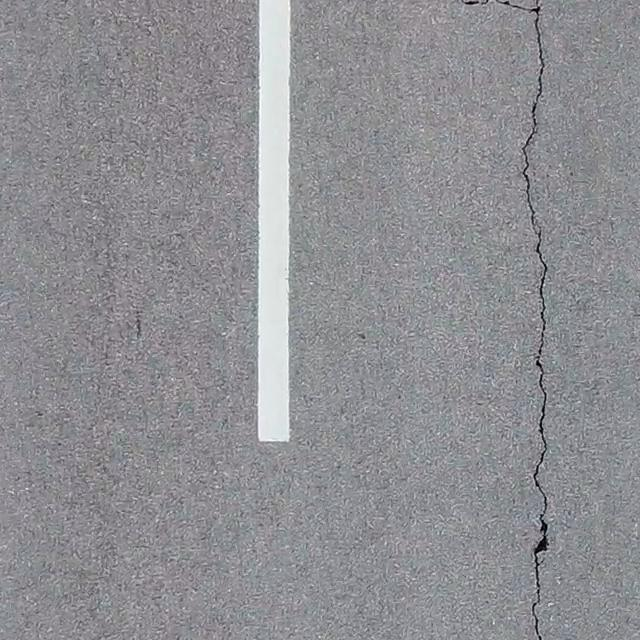GRIETA: (520, 0, 550, 639), (462, 0, 528, 12)
